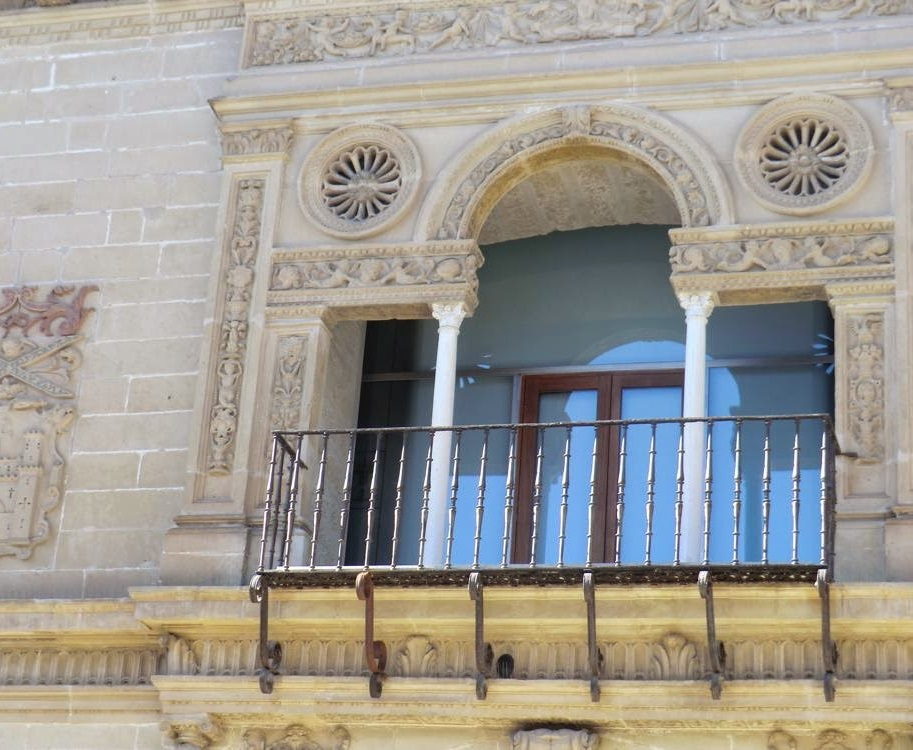serliana: (251, 106, 885, 586)
